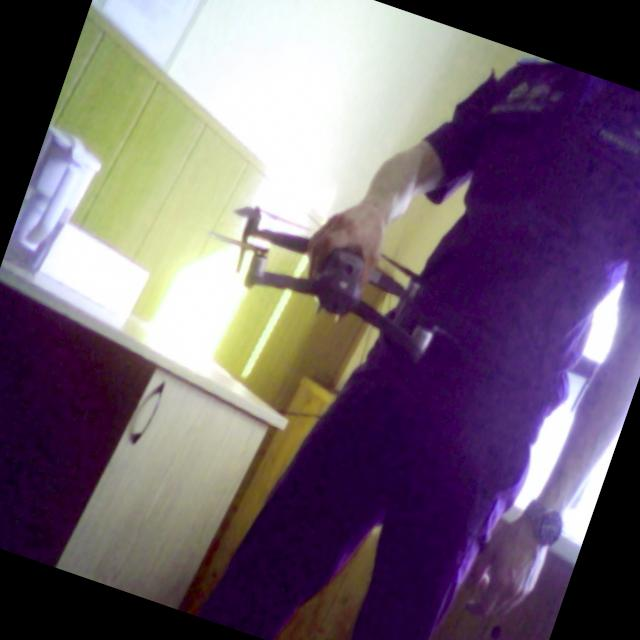drone: (190, 150, 490, 382)
